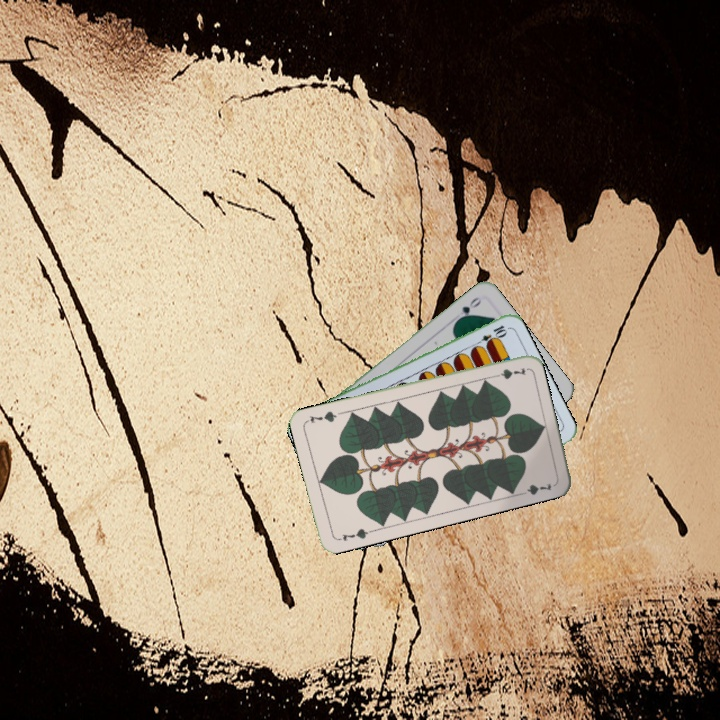E10: (471, 321, 509, 349)
G7: (334, 524, 374, 544), (487, 363, 528, 381)
GO: (452, 293, 484, 324)
